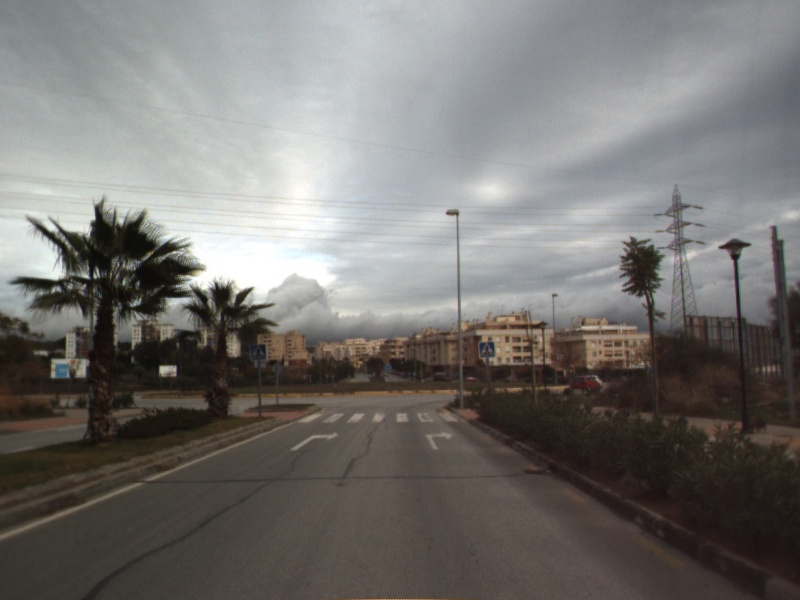RIGHT: (288, 430, 341, 453), (423, 429, 455, 451)
